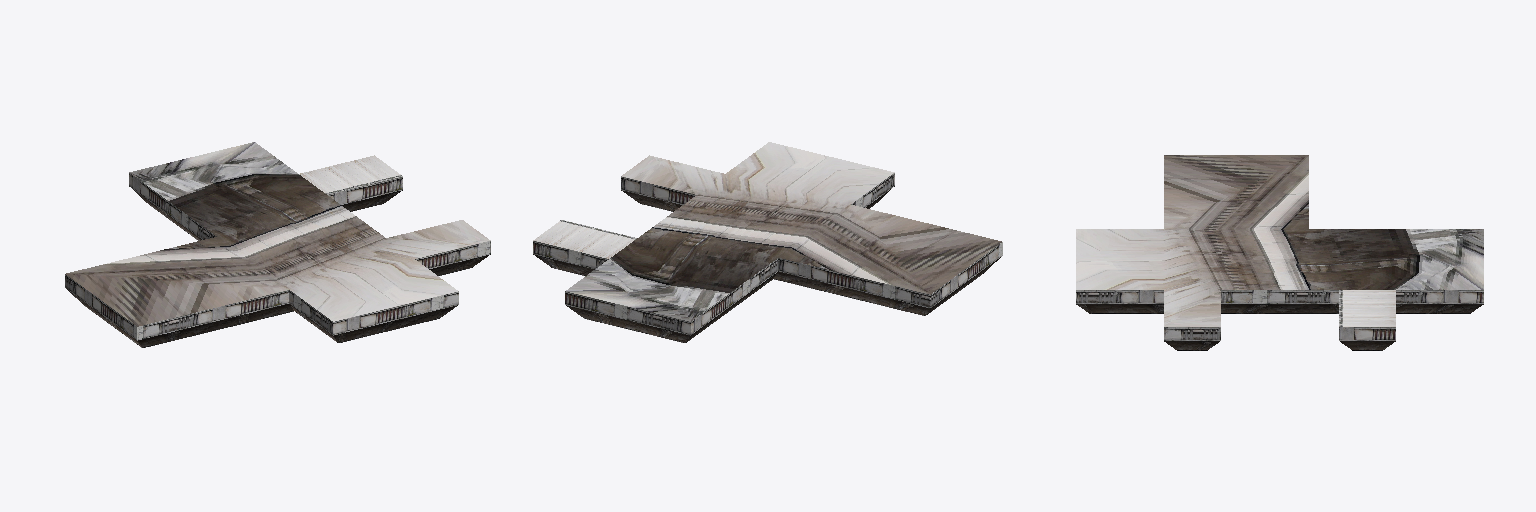
3 views of the same model, side by side, from view 1: azimuth 30°, elevation 25°; view 2: azimuth 150°, elevation 25°; view 3: azimuth 270°, elevation 25° (orthographic).
Parts seen in each view (by area): view 1: block5_balcony; view 2: block5_balcony; view 3: block5_balcony.
Boxes of the visible parts, x1=… form: block5_balcony: x1=65, y1=142, x2=490, y2=347; block5_balcony: x1=533, y1=142, x2=1002, y2=342; block5_balcony: x1=1076, y1=155, x2=1483, y2=350.
Size of the model in its own units: 22.12 by 1.78 by 22.12.
1 materials, 1 textured.